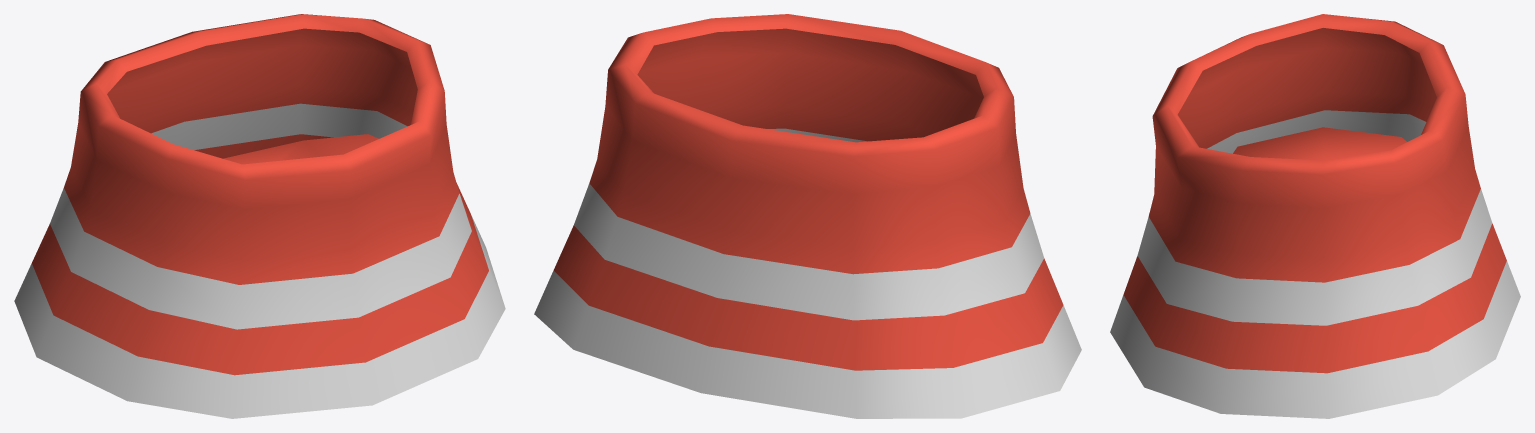
File: Bottom_05_Slim.fbx
3 renders of one model, left to right at view 1: azimuth 30°, elevation 25°; view 2: azimuth 150°, elevation 25°; view 3: azimuth 270°, elevation 25°, orthographic. The views are drawn at different scales.
Parts seen in each view (by area): view 1: Bottom_05_Slim; view 2: Bottom_05_Slim; view 3: Bottom_05_Slim.
Boxes of the visible parts, x1,y1,x2,y2 form: Bottom_05_Slim: (14,14,505,418); Bottom_05_Slim: (534,14,1081,418); Bottom_05_Slim: (1110,14,1520,418).
Bounding box in the file's own units: 36.62 × 19.44 × 29.43.
